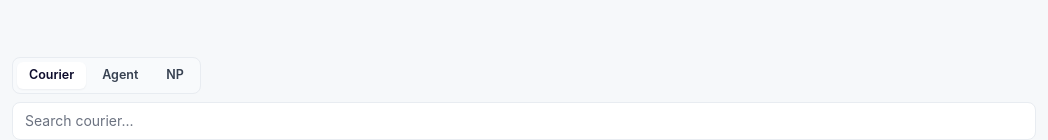
Test: AssignTargetPicker › filters options by hint text too
(page scrolled)
Type "WL" into the field with placeholder "Search courier..." at (524,121), box x1=12 y1=102 x2=1036 y2=139
(page scrolled)
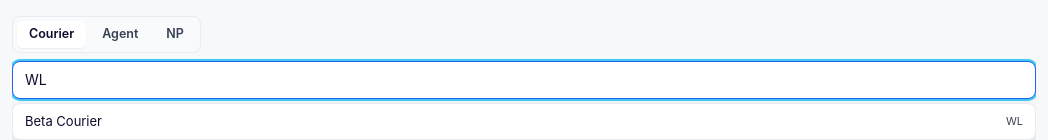
Check: the button "Beta Courier WL" is shown, box x1=13 y1=104 x2=1035 y2=139
